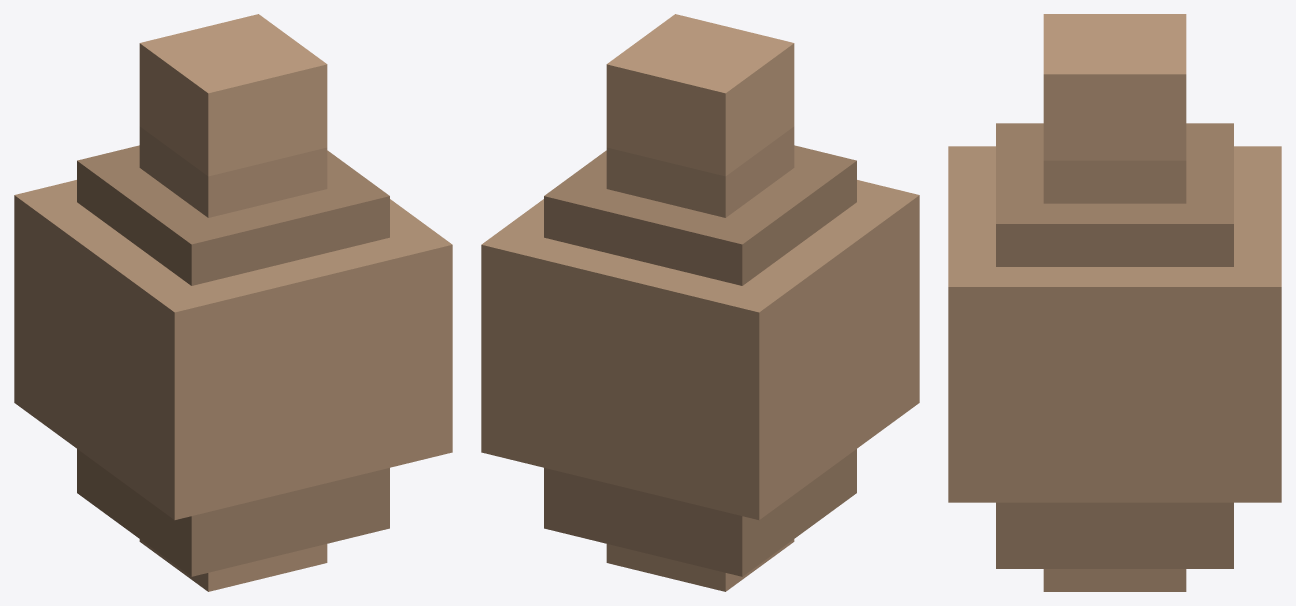
File: tinaja_barro_01.glb
3 views of the same model, side by side, from view 1: azimuth 30°, elevation 25°; view 2: azimuth 150°, elevation 25°; view 3: azimuth 270°, elevation 25° (orthographic). The views are drawn at different scales.
Parts seen in each view (by area): view 1: tinaja_barro_01; view 2: tinaja_barro_01; view 3: tinaja_barro_01.
Boxes of the visible parts, x1,y1,x2,y2 form: tinaja_barro_01: [14, 14, 452, 591]; tinaja_barro_01: [481, 14, 919, 591]; tinaja_barro_01: [948, 14, 1281, 591].
Size of the model in its own units: 0.7 by 1.2 by 0.7.
